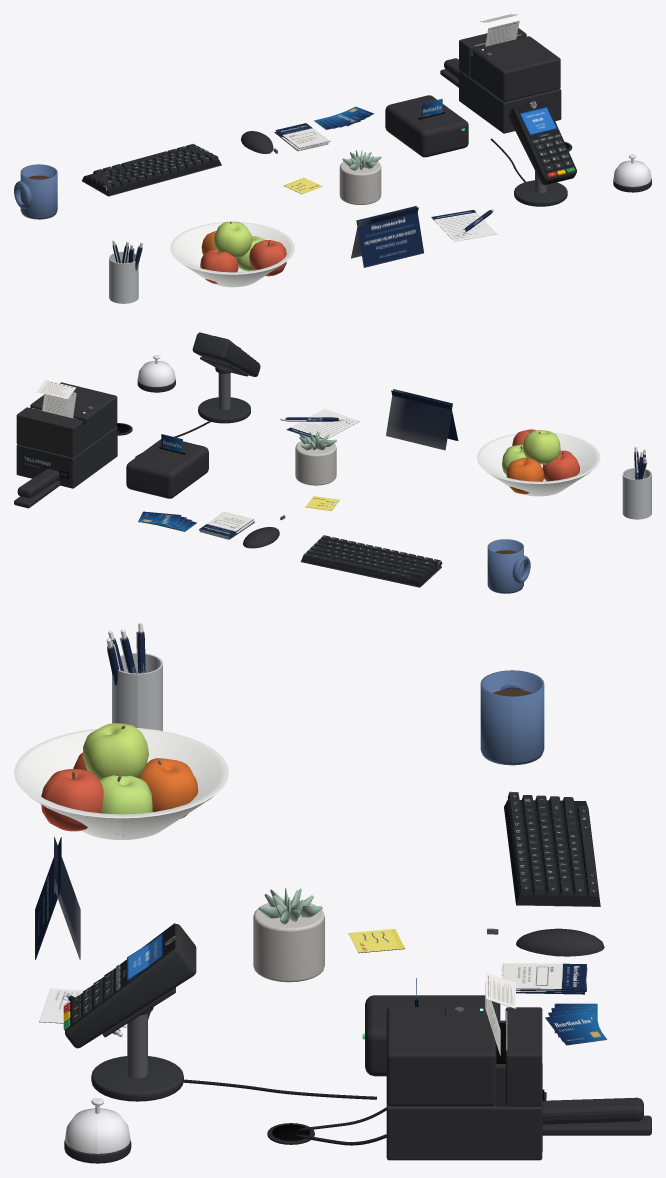
The model's file is hotel-desk-items.glb.
3 views of the same model, one above another, from view 1: azimuth 30°, elevation 25°; view 2: azimuth 150°, elevation 25°; view 3: azimuth 270°, elevation 25° (orthographic). The views are drawn at different scales.
Parts seen in each view (by area): view 1: gear_plastic, black_plastic, print_0.0, take_tent_card, ceramic, lobby_0.0, take_mug, desk_face, concrete_pot, brushed_metal, take_registration_card, take_apple.003 (+6 smaller); view 2: gear_plastic, black_plastic, print_0.0, take_tent_card, lobby_0.0, ceramic, take_mug, concrete_pot, brushed_metal, desk_face, take_registration_card, take_stapler (+7 smaller); view 3: gear_plastic, print_0.0, ceramic, take_mug, black_plastic, lobby_0.0, concrete_pot, take_stapler, brushed_metal, take_apple.003, take_apple.004, desk_face (+10 smaller).
Boxes of the visible parts, x1,y1,x2,y2 form: gear_plastic: (459, 28, 576, 206); black_plastic: (241, 95, 651, 192); print_0.0: (82, 143, 221, 196); take_tent_card: (351, 206, 423, 267); ceramic: (170, 222, 295, 287); lobby_0.0: (274, 14, 519, 194); take_mug: (14, 164, 57, 219); desk_face: (515, 98, 576, 177); concrete_pot: (339, 158, 381, 204); brushed_metal: (109, 251, 138, 303); take_registration_card: (431, 209, 497, 241); take_apple.003: (214, 221, 252, 258); gear_plastic: (16, 333, 260, 488); black_plastic: (60, 378, 279, 548); print_0.0: (300, 535, 442, 587); take_tent_card: (386, 389, 458, 450); lobby_0.0: (37, 380, 339, 539); ceramic: (477, 432, 600, 496); take_mug: (487, 539, 530, 593); concrete_pot: (295, 438, 336, 485); brushed_metal: (622, 468, 651, 519); desk_face: (20, 332, 259, 484); take_registration_card: (286, 409, 359, 438); take_stapler: (14, 469, 60, 508); gear_plastic: (65, 924, 542, 1160); print_0.0: (504, 791, 600, 906); ceramic: (14, 728, 229, 839); take_mug: (480, 670, 544, 765); black_plastic: (64, 928, 604, 1163); lobby_0.0: (348, 929, 601, 1055); concrete_pot: (253, 900, 324, 982); take_stapler: (542, 1097, 651, 1135); brushed_metal: (112, 653, 162, 730); take_apple.003: (83, 723, 148, 780); take_apple.004: (41, 769, 103, 831); desk_face: (63, 923, 542, 1151).
Size of the model in its own units: 1.31 by 0.2198 by 0.8.
26 materials, 4 textured.
